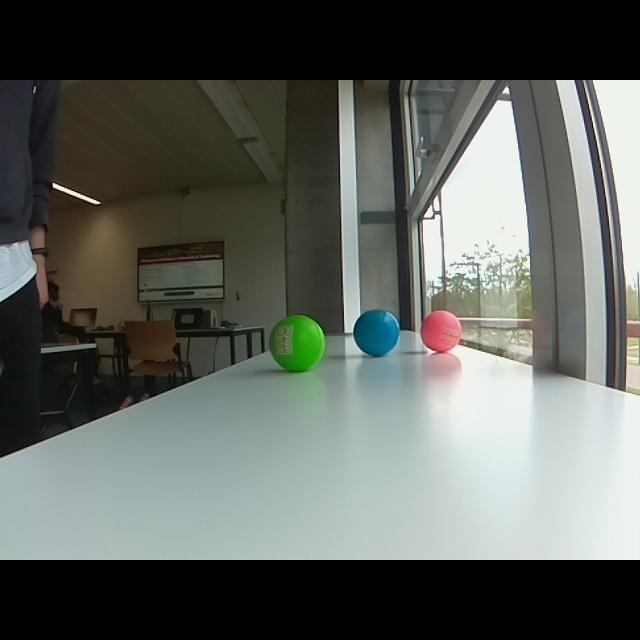ball: (268, 312, 326, 374), (352, 307, 400, 358), (419, 308, 464, 355)
